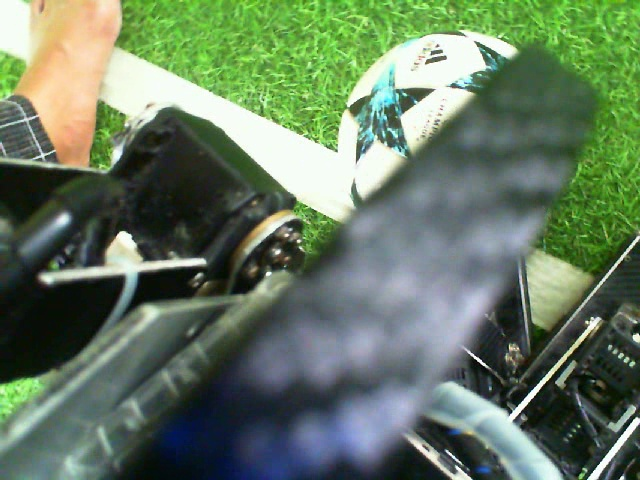ball: (335, 27, 525, 215)
